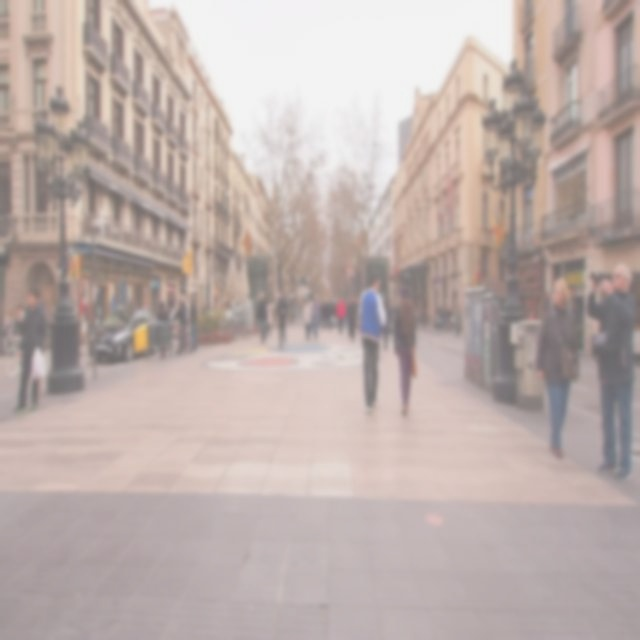pessoa: (586, 262, 638, 486), (534, 276, 580, 459), (11, 284, 48, 414), (358, 274, 388, 416), (394, 286, 417, 418), (412, 298, 463, 342), (170, 293, 188, 356), (342, 290, 362, 342), (274, 289, 288, 352), (156, 298, 169, 361), (317, 292, 337, 330), (379, 296, 392, 352), (256, 290, 268, 346), (10, 302, 26, 340), (1, 308, 13, 358), (188, 292, 198, 350), (302, 294, 314, 342), (309, 293, 320, 340), (284, 286, 296, 326), (168, 296, 178, 344), (336, 294, 346, 334), (264, 298, 274, 338), (108, 286, 119, 318), (522, 304, 537, 327), (388, 298, 397, 334), (183, 294, 188, 350), (126, 292, 133, 314)
